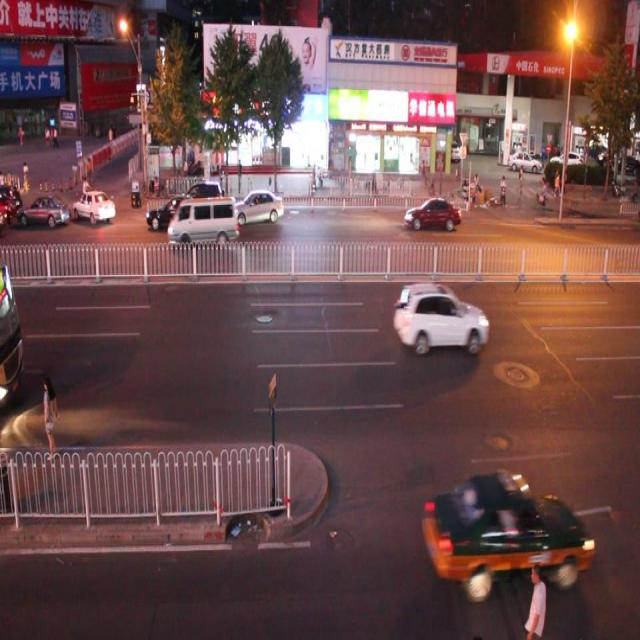car: (422, 469, 590, 586), (392, 279, 489, 356), (171, 181, 225, 226), (145, 194, 206, 233), (16, 195, 71, 235), (403, 195, 461, 232), (232, 190, 283, 222), (71, 189, 117, 222)
truck: (166, 192, 238, 249)
